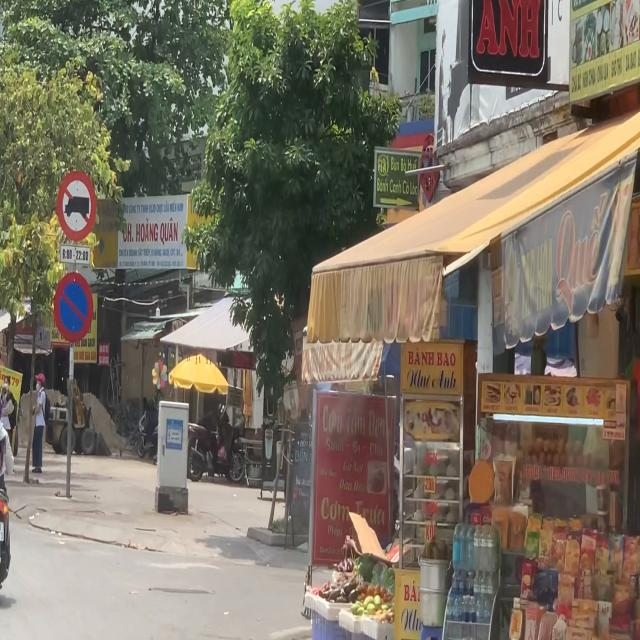Cam con lai: (58, 170, 96, 240)
Cam do: (53, 272, 95, 342)
